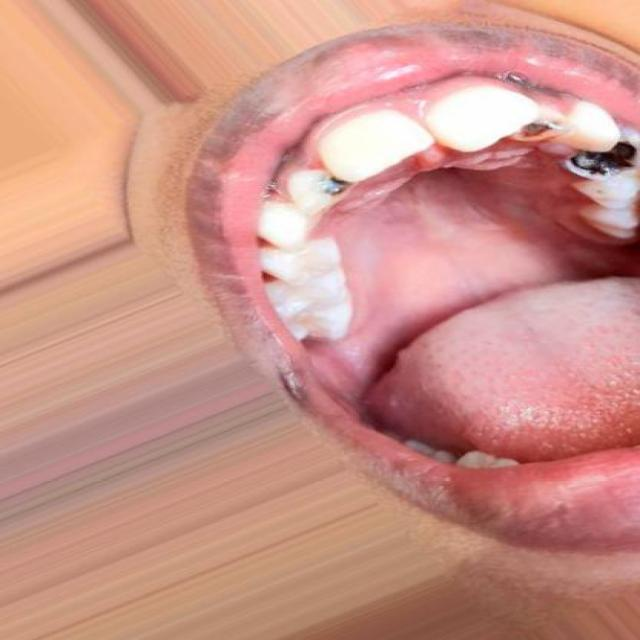caries: (285, 152, 377, 216), (561, 130, 640, 186), (500, 102, 567, 151)
